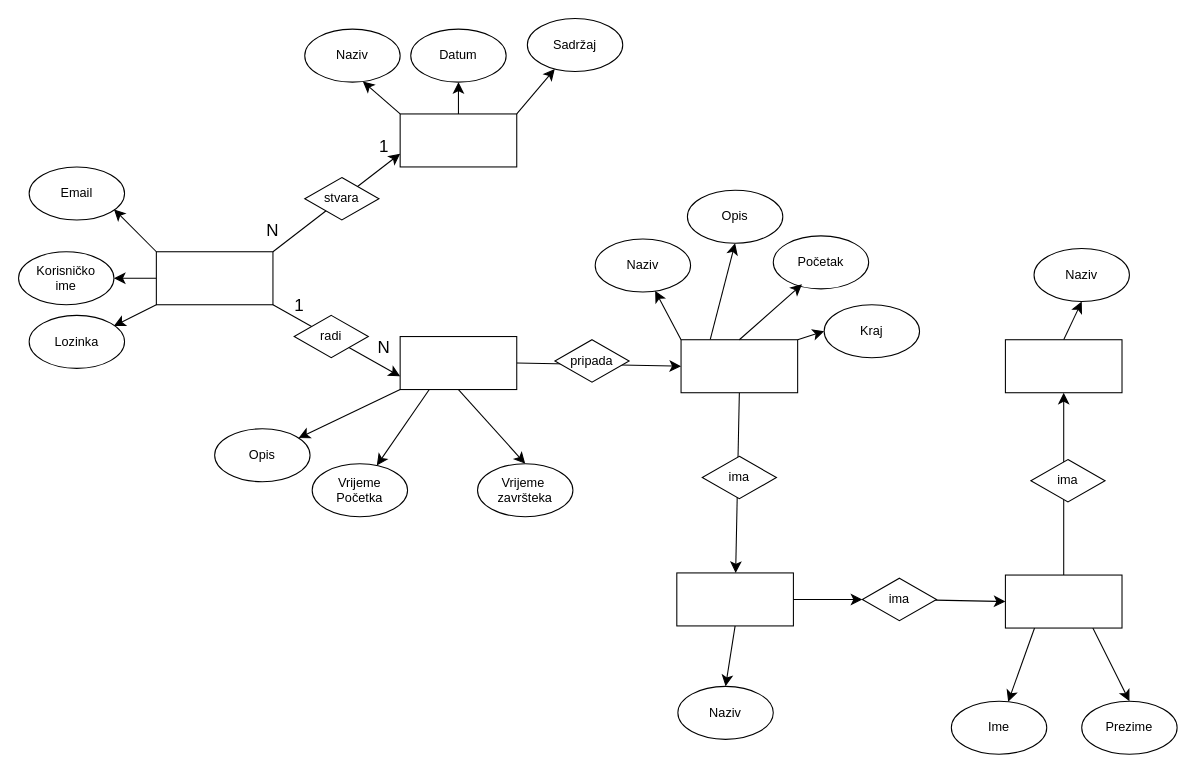
This 1196x773 diagram has some shape labels left out. Each missing label, with the centre of its shape:
"IZVJEŠĆE" belongs at pixel 458 140.
"KORISNIK" belongs at pixel 214 278.
"PROJEKT" belongs at pixel 739 366.
"RADNA AKTIVNOST" belongs at pixel 458 362.
"TIM" belongs at pixel 734 599.
"ULOGA" belongs at pixel 1063 366.
"ZAPOSLENIK" belongs at pixel 1063 601.
